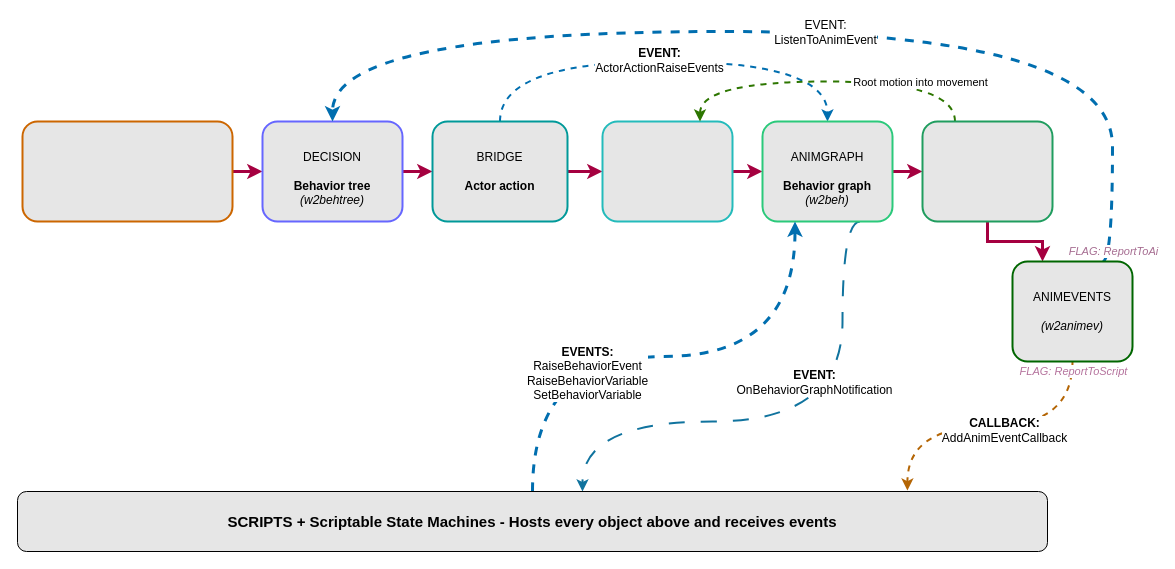
Image size: 1175x569. Some labels were removed from this diagram. Each missing label, with the centre of its shape:
ANIMATION (entity / w2anims): the point at 987,171
MOVEMENT Steering + path: the point at 667,171
ORCHESTRATOR Orchestration (spawn, reactions, ap, communities...): the point at 127,171
